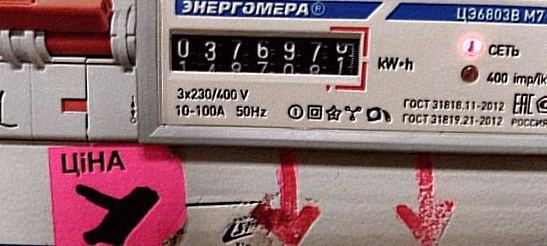0: (176, 36, 191, 59)
1: (334, 55, 346, 75)
3: (203, 40, 218, 62)
6: (255, 36, 271, 59)
7: (228, 37, 244, 60), (309, 40, 323, 63)
9: (281, 38, 297, 62)
screen: (160, 19, 372, 94)
